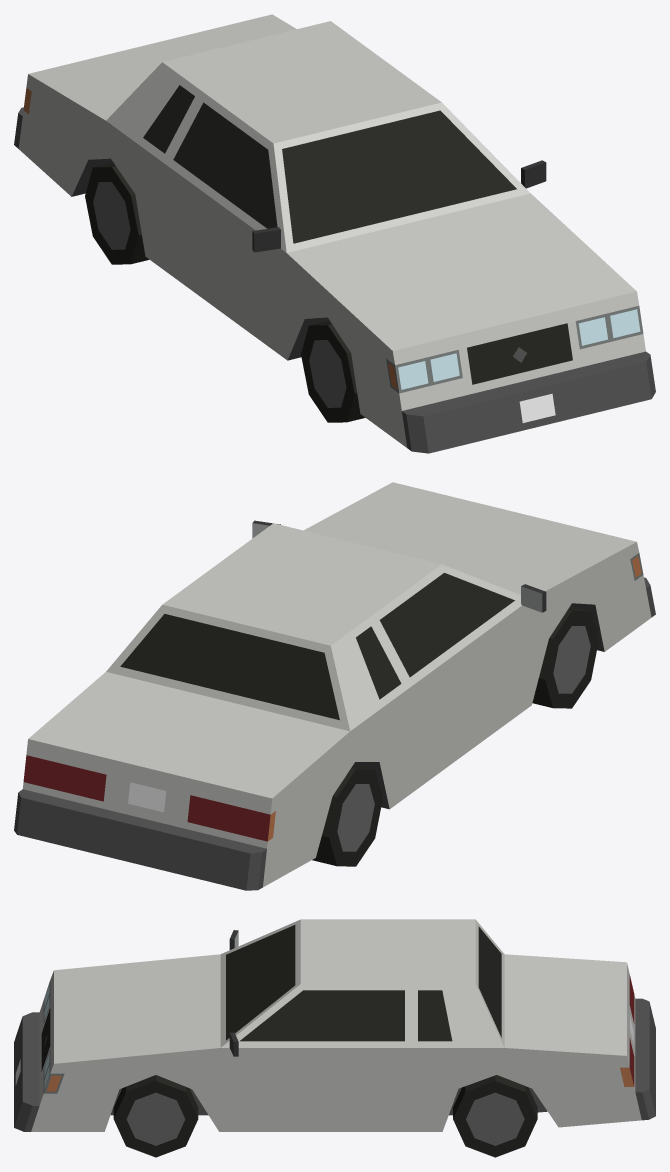
Rendered from Veh_Coupe_03_White.glb.
The picture shows the model from 3 angles, top to bottom: view 1: azimuth 30°, elevation 25°; view 2: azimuth 150°, elevation 25°; view 3: azimuth 270°, elevation 25°; orthographic projection. The views are drawn at different scales.
Parts seen in each view (by area): view 1: Coupe_03_White, Wheel_RR, Wheel_FR; view 2: Coupe_03_White, Wheel_RR, Wheel_FR; view 3: Coupe_03_White, Wheel_RL, Wheel_FL.
Boxes of the visible parts, x1,y1,x2,y2 form: Coupe_03_White: (14, 14, 655, 453); Wheel_RR: (85, 162, 149, 264); Wheel_FR: (301, 320, 365, 422); Coupe_03_White: (14, 482, 655, 890); Wheel_RR: (312, 764, 382, 866); Wheel_FR: (532, 606, 598, 708); Coupe_03_White: (14, 919, 655, 1131); Wheel_RL: (453, 1075, 537, 1157); Wheel_FL: (113, 1075, 198, 1157).
Bounding box in the file's own units: 1.14 × 0.7543 × 2.76.
1 material, 1 textured.
